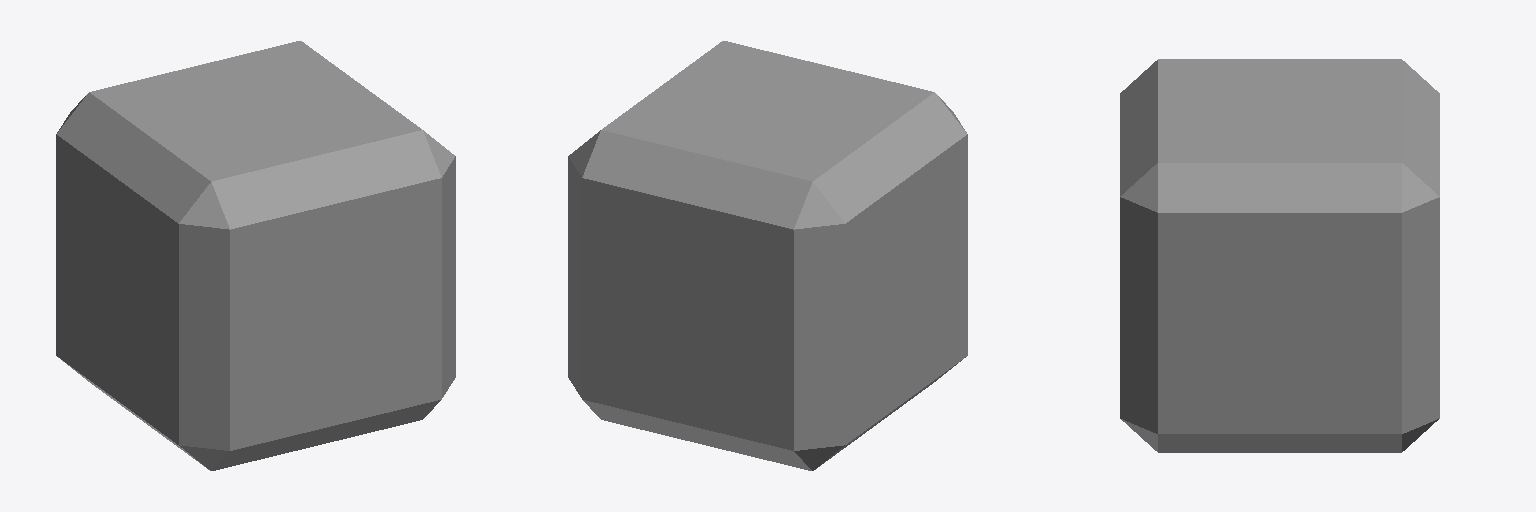
File: itembox.obj
The picture shows the model from 3 angles: view 1: azimuth 30°, elevation 25°; view 2: azimuth 150°, elevation 25°; view 3: azimuth 270°, elevation 25°; orthographic projection.
Visible parts, largest first — view 1: Cube; view 2: Cube; view 3: Cube.
Boxes of the visible parts, <box> form: Cube: <box>56,41,455,470</box>; Cube: <box>568,41,967,470</box>; Cube: <box>1120,59,1439,452</box>.
Bounding box in the file's own units: 2 × 2 × 2.